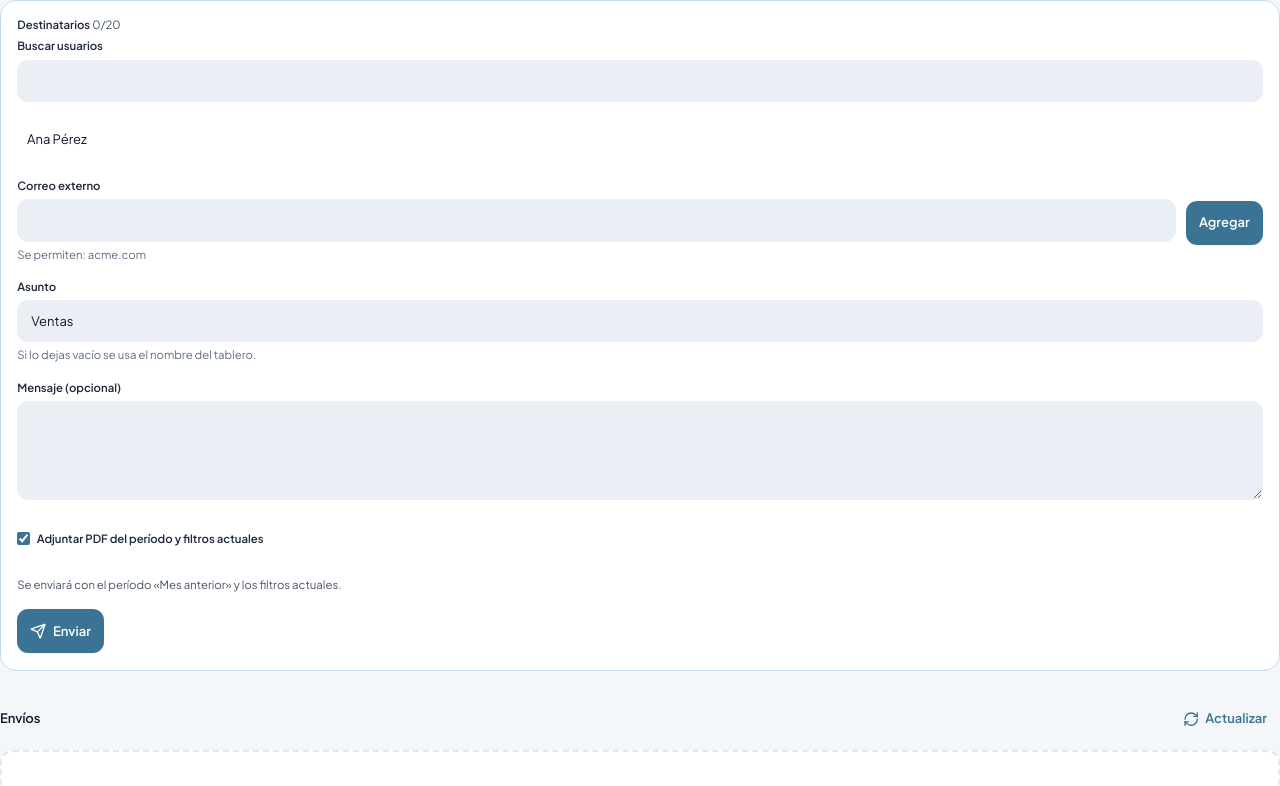
Test: EmailSendPanel › validates empty recipients without POSTing
This screenshot has width=1280, height=786.
Click the button "Enviar": (61,631) [17,609,104,653]
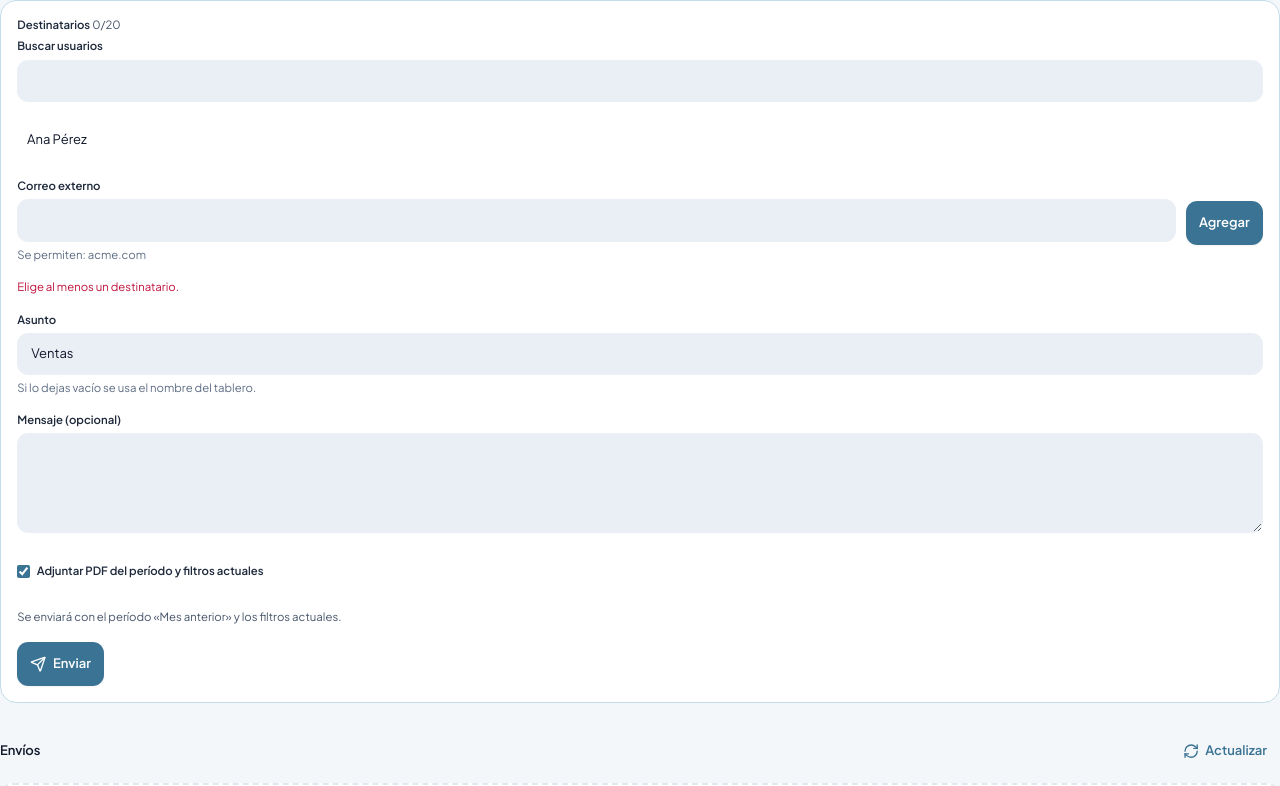
Expected: the text "Elige al menos un destinatario." is shown, [17,279,179,294]
